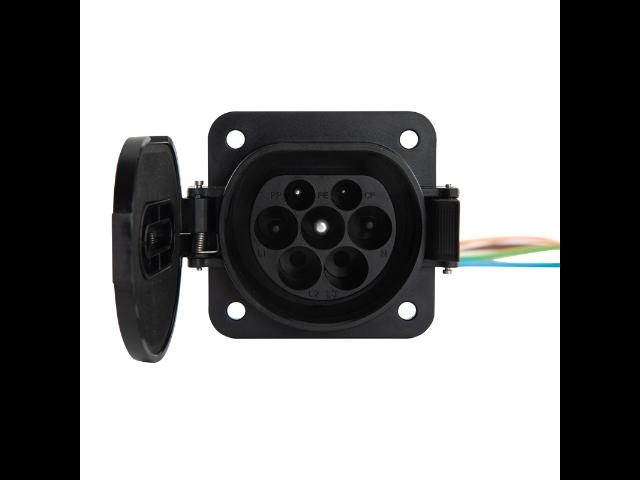inlet: (250, 175, 395, 300)
inlet-above-left: (284, 179, 316, 211)
inlet-above-right: (331, 180, 363, 210)
inlet-below-left: (277, 246, 322, 290)
inlet-below-right: (325, 246, 369, 290)
inlet-circle: (301, 205, 345, 250)
inlet-circle-left: (254, 205, 299, 251)
inlet-circle-right: (347, 205, 392, 250)
